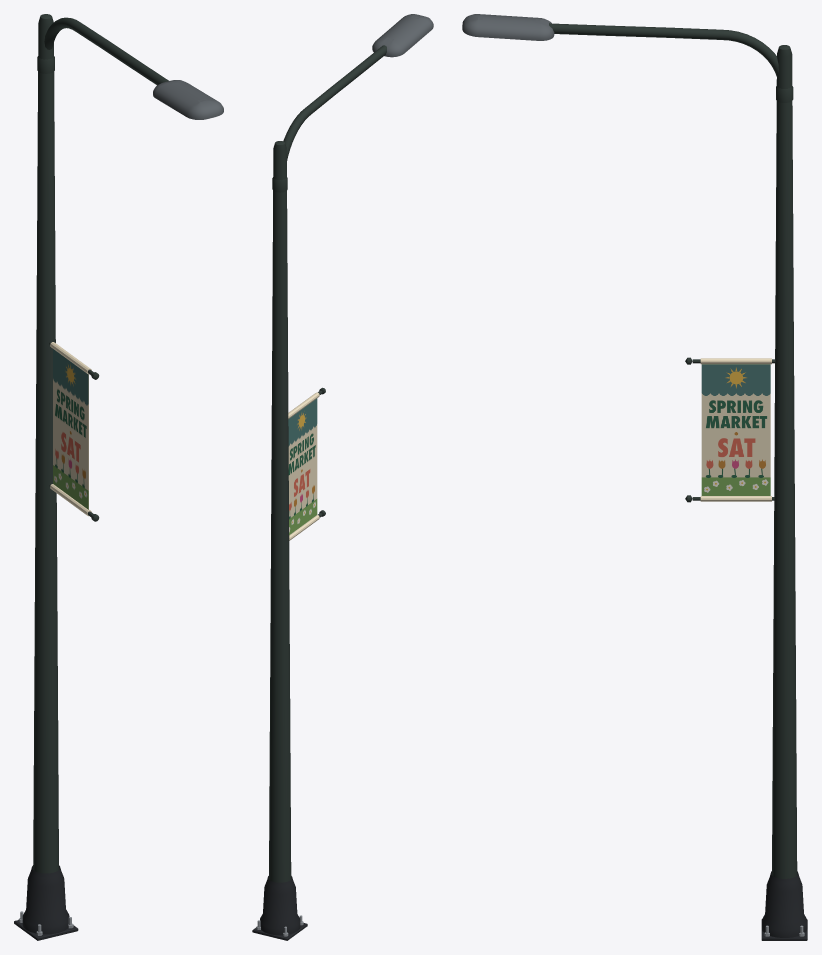
File: StreetLamp.fbx
The picture shows the model from 3 angles, left to right: view 1: azimuth 30°, elevation 25°; view 2: azimuth 150°, elevation 25°; view 3: azimuth 270°, elevation 25°; orthographic projection. The views are drawn at different scales.
Visible parts, largest first — view 1: StreetLamp_Mesh; view 2: StreetLamp_Mesh; view 3: StreetLamp_Mesh.
Boxes of the visible parts, box(x1,y1,x2,y2) form: StreetLamp_Mesh: box(14, 14, 223, 940); StreetLamp_Mesh: box(252, 14, 433, 940); StreetLamp_Mesh: box(462, 14, 807, 940).
Size of the model in its own units: 0.4 by 8.77 by 3.
